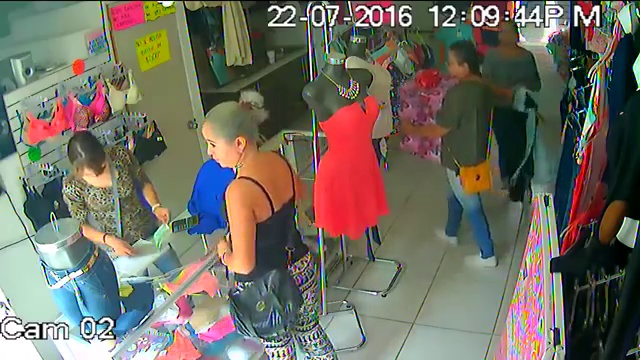face: (202, 119, 233, 163), (441, 47, 465, 75), (495, 22, 517, 44)
